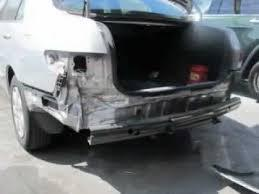Bumper: (21, 51, 176, 147)
